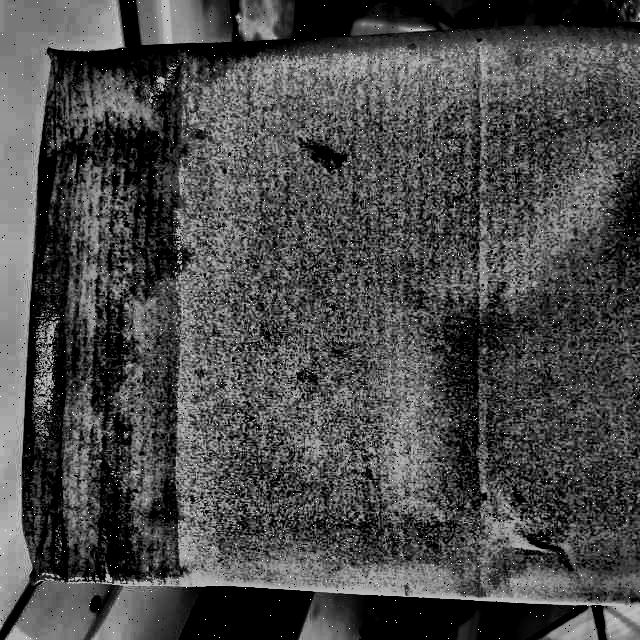box: (18, 22, 640, 611)
wet: (25, 45, 186, 609)
